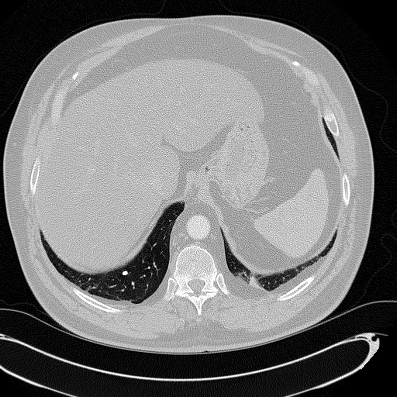nodule: (122, 270, 128, 276)
